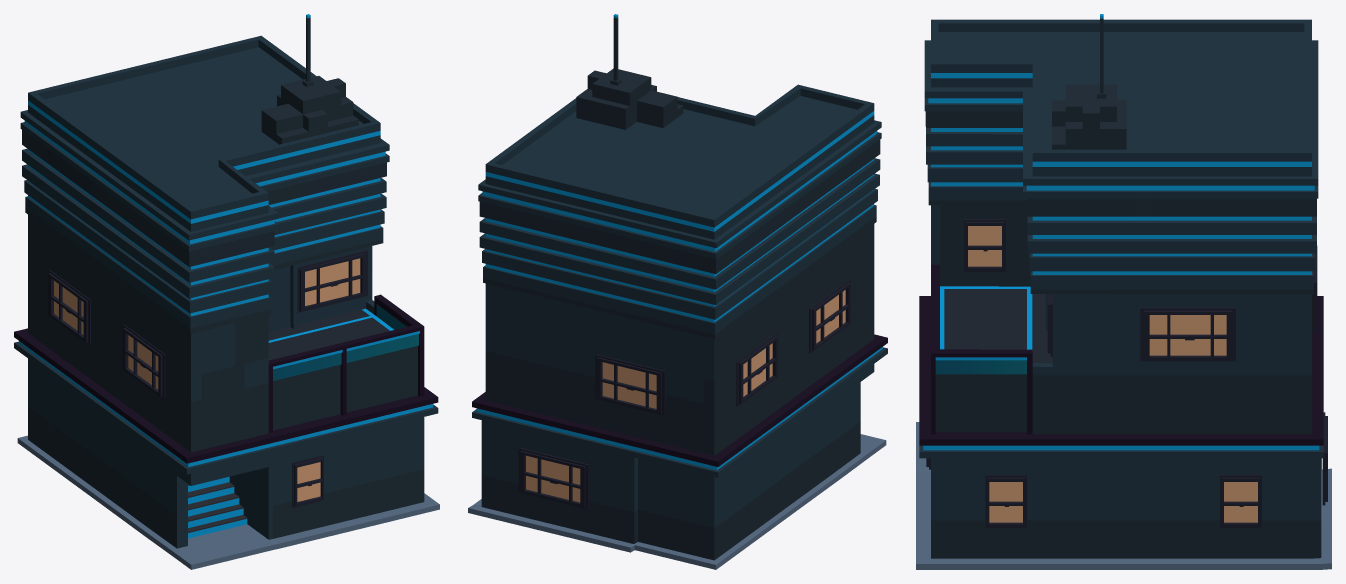
File: Building_Small05.fbx
3 views of the same model, side by side, from view 1: azimuth 30°, elevation 25°; view 2: azimuth 150°, elevation 25°; view 3: azimuth 270°, elevation 25° (orthographic). The views are drawn at different scales.
Visible parts, largest first — view 1: CubeHome.003; view 2: CubeHome.003; view 3: CubeHome.003.
Boxes of the visible parts, x1,y1,x2,y2 form: CubeHome.003: (14, 14, 439, 569); CubeHome.003: (468, 14, 887, 569); CubeHome.003: (916, 14, 1331, 569).
Size of the model in its own units: 799 by 1364 by 978.
